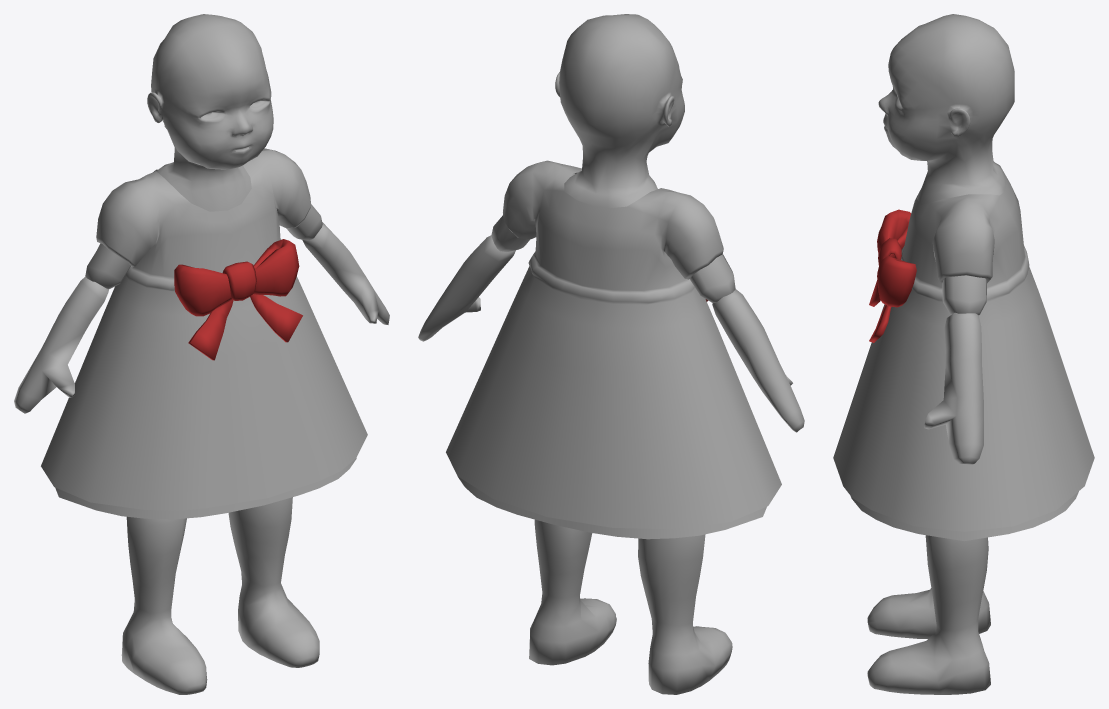
The model's file is SM_Doll_Fixed (1).fbx.
3 renders of one model, left to right at view 1: azimuth 30°, elevation 25°; view 2: azimuth 150°, elevation 25°; view 3: azimuth 270°, elevation 25°, orthographic. The views are drawn at different scales.
Parts seen in each view (by area): view 1: Dress, Doll_Body, Doll_Leg_R, Doll_Leg_L, Doll_Arm_R, Bowtie_Ends, Doll_Arm_L, Bowtie_ties, Bowtie_Middle; view 2: Dress, Doll_Body, Doll_Leg_R, Doll_Leg_L, Doll_Arm_R, Doll_Arm_L; view 3: Dress, Doll_Body, Doll_Leg_L, Doll_Arm_L, Doll_Leg_R, Bowtie_Ends, Bowtie_ties.
Boxes of the visible parts, <box> form: Dress: <box>41,148,367,519</box>; Doll_Body: <box>85,14,322,288</box>; Doll_Leg_R: <box>121,516,207,694</box>; Doll_Leg_L: <box>228,497,319,667</box>; Doll_Arm_R: <box>14,277,108,413</box>; Bowtie_Ends: <box>174,239,299,316</box>; Doll_Arm_L: <box>302,222,389,324</box>; Bowtie_ties: <box>188,294,302,360</box>; Bowtie_Middle: <box>222,261,256,300</box>; Dress: <box>446,160,781,539</box>; Doll_Body: <box>491,14,735,302</box>; Doll_Leg_R: <box>638,534,732,694</box>; Doll_Leg_L: <box>529,519,616,665</box>; Doll_Arm_R: <box>712,289,804,432</box>; Doll_Arm_L: <box>418,235,515,341</box>; Dress: <box>833,155,1094,541</box>; Doll_Body: <box>878,14,1014,315</box>; Doll_Leg_L: <box>867,535,990,694</box>; Doll_Arm_L: <box>924,312,983,464</box>; Doll_Leg_R: <box>867,588,990,638</box>; Bowtie_Ends: <box>877,209,916,307</box>; Bowtie_ties: <box>869,280,891,342</box>.
Bounding box in the file's own units: 33.13 × 53.8 × 20.12.
